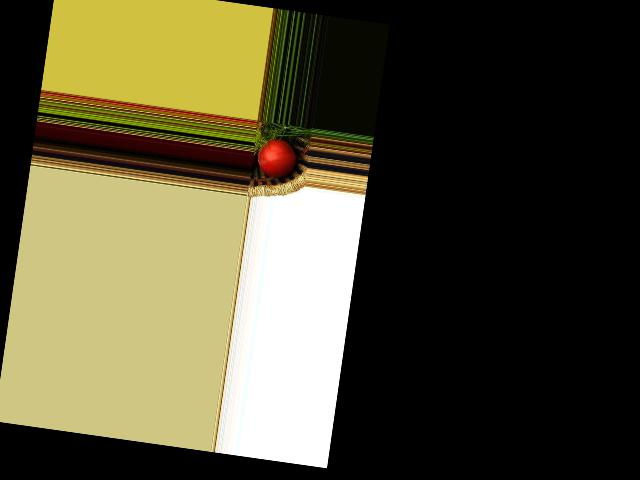tomato: (255, 135, 298, 179)
